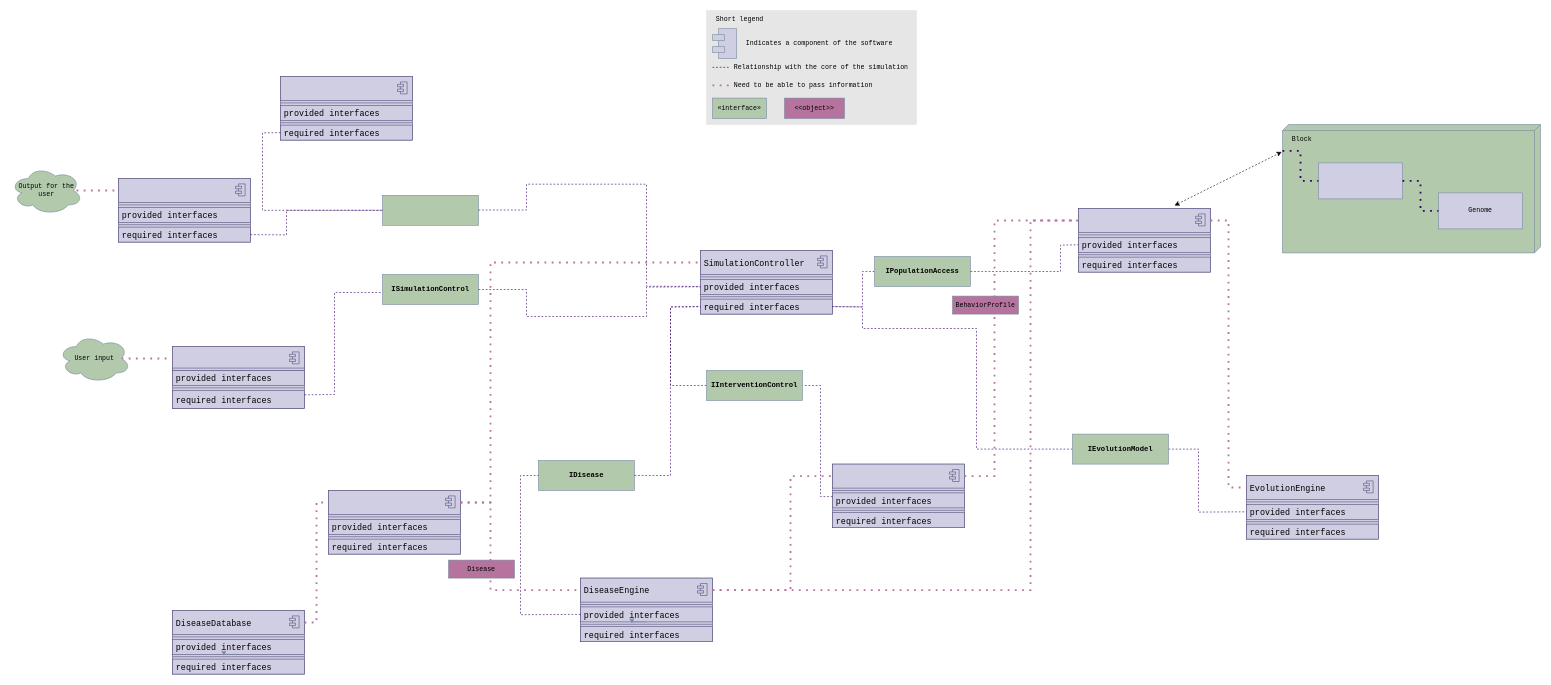
The diagram is 1551 pixels wide and 685 high, and some of its shapes have lost their labels. The shapes that lost their labels are listed below. From the top down, each one's centre as x and y in pixels, then its label:
At [346,88]: "DataLogger".
At [184,190]: "UnityVisualisation".
At [1360,180]: "HumanAgent".
At [430,210]: "ISimulationAccess".
At [1144,220]: "PopulationEngine".
At [238,358]: "UIController".
At [898,476]: "InterventionManager".
At [394,502]: "ScenarioLoader".
